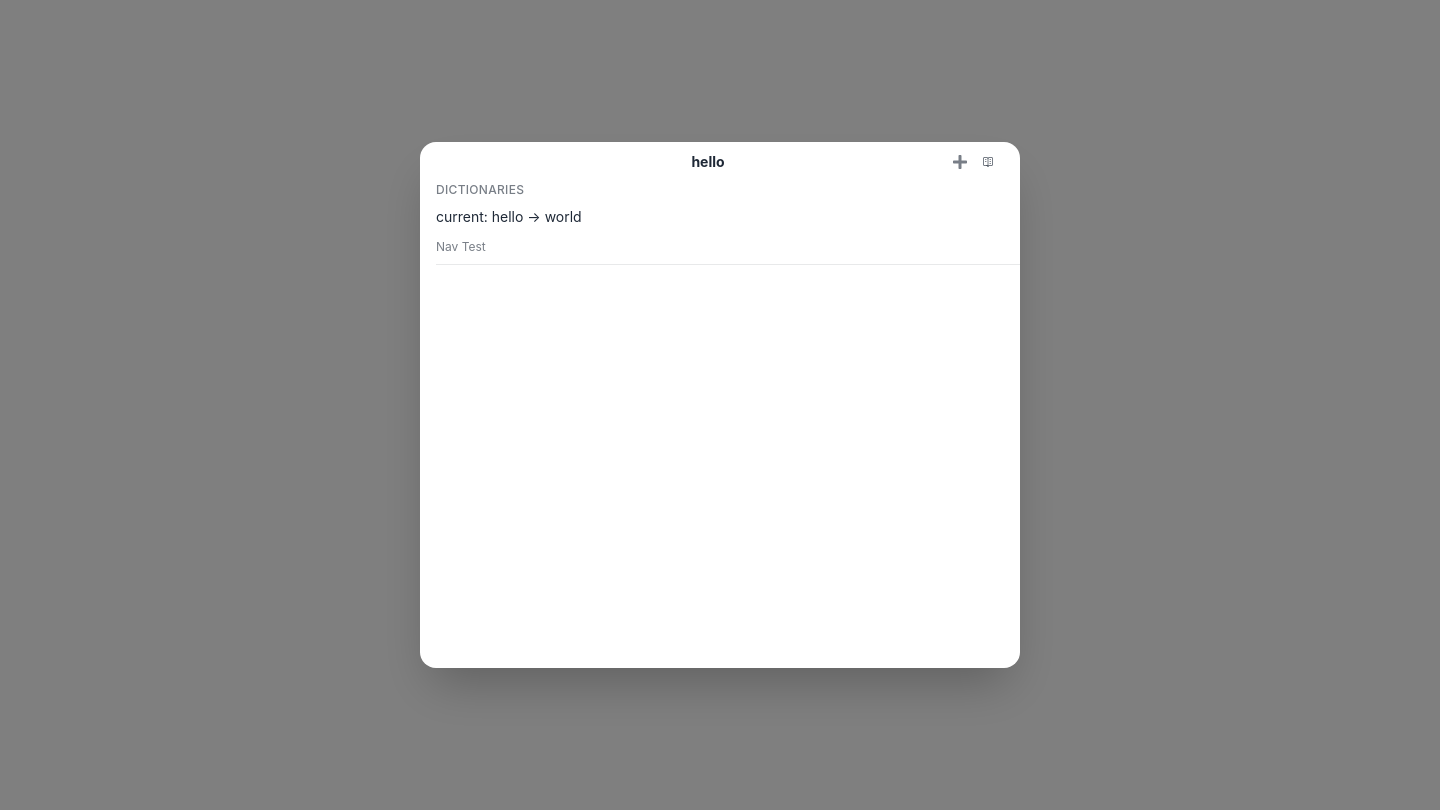
Test: DictionarySheet — in-content navigation › back button pops the history stack and restores the previous word
Step 1. Click the link with test id "nav-link" → [554, 216], box [527,208,582,225]
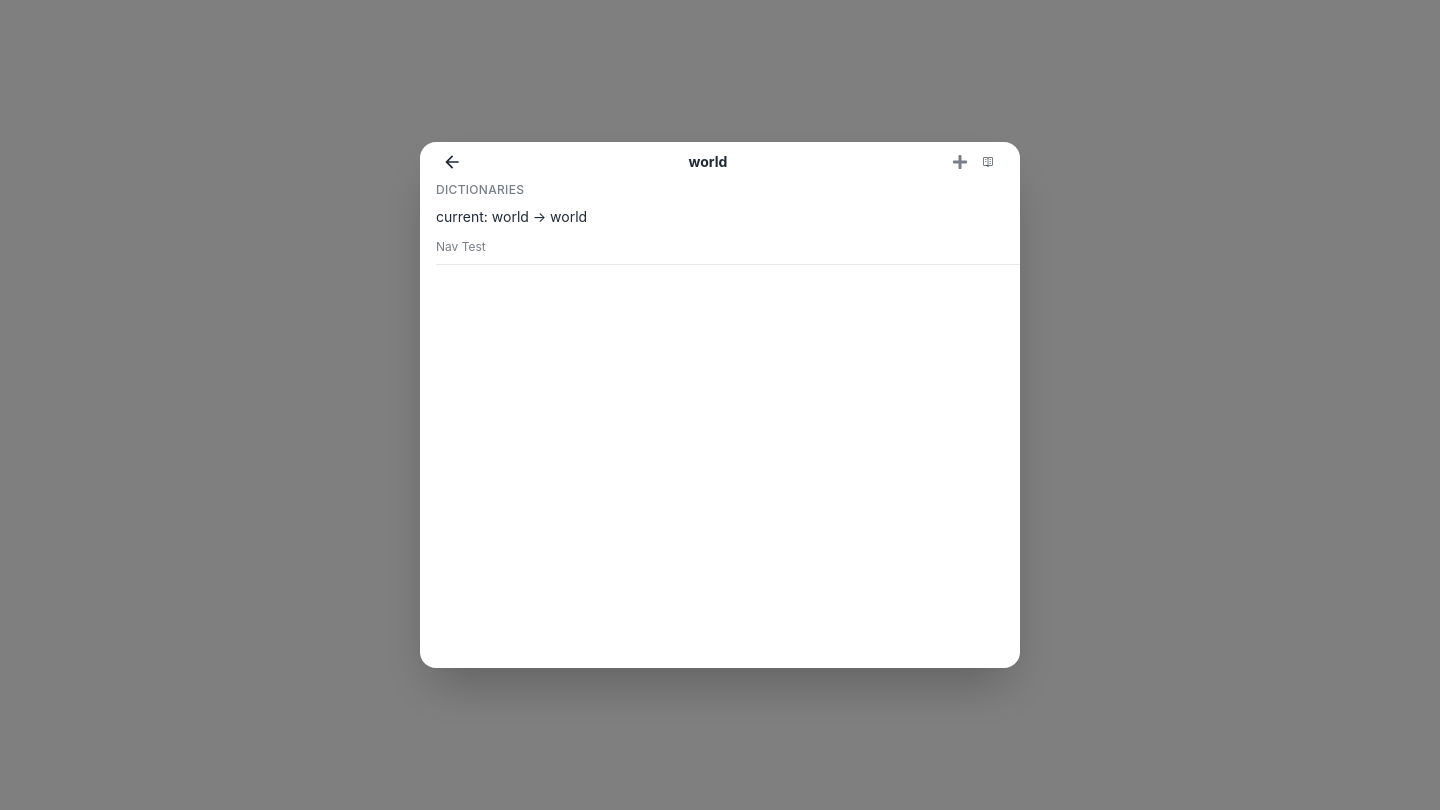
Expected: the text with test id "dict-title" reads "world", [689,153,727,170]
Step 2. Click the button named "Back" → [452, 162], box [436,146,468,178]
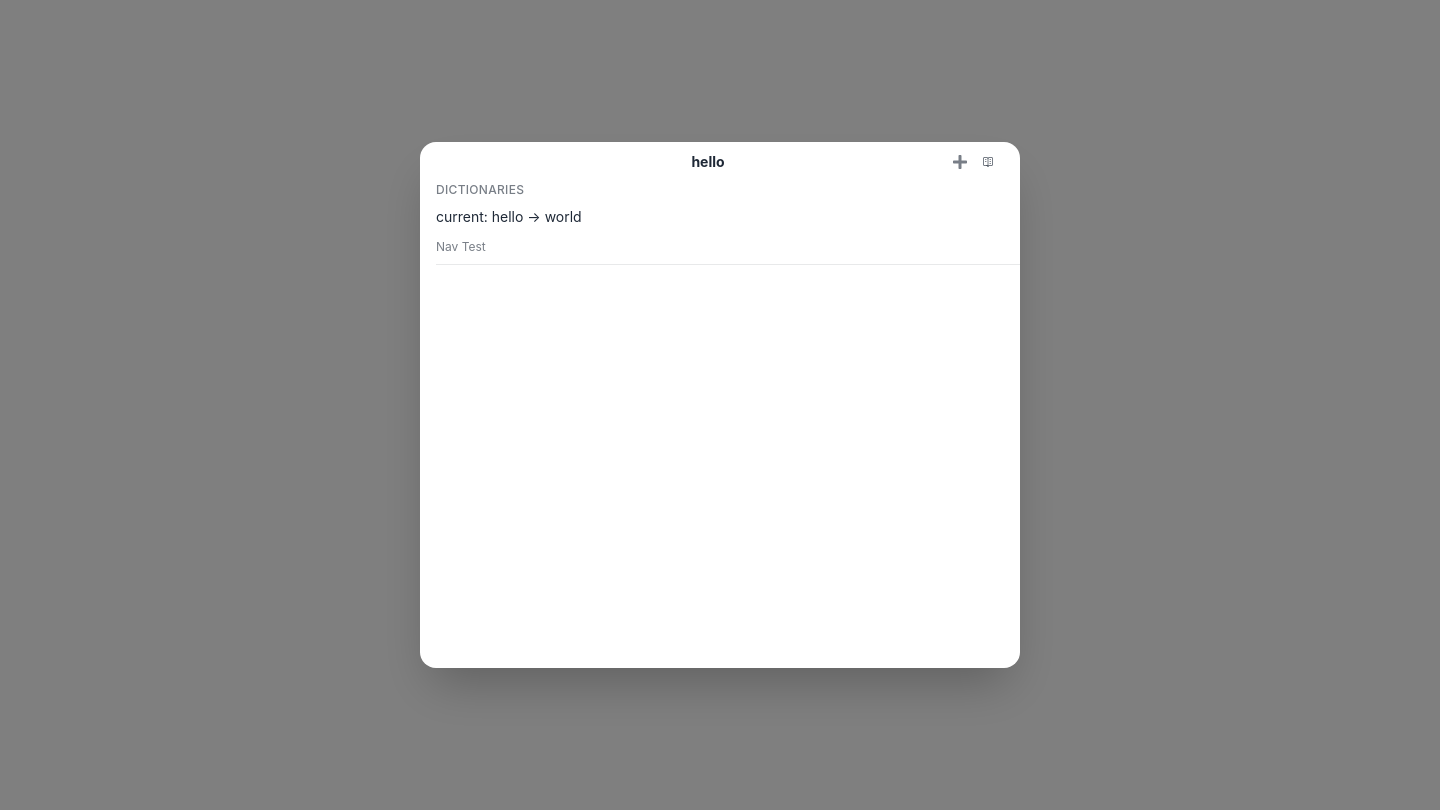
Expected: the text with test id "dict-title" reads "hello", [691,153,725,170]
Expected: the button labelled "Back" is gone
